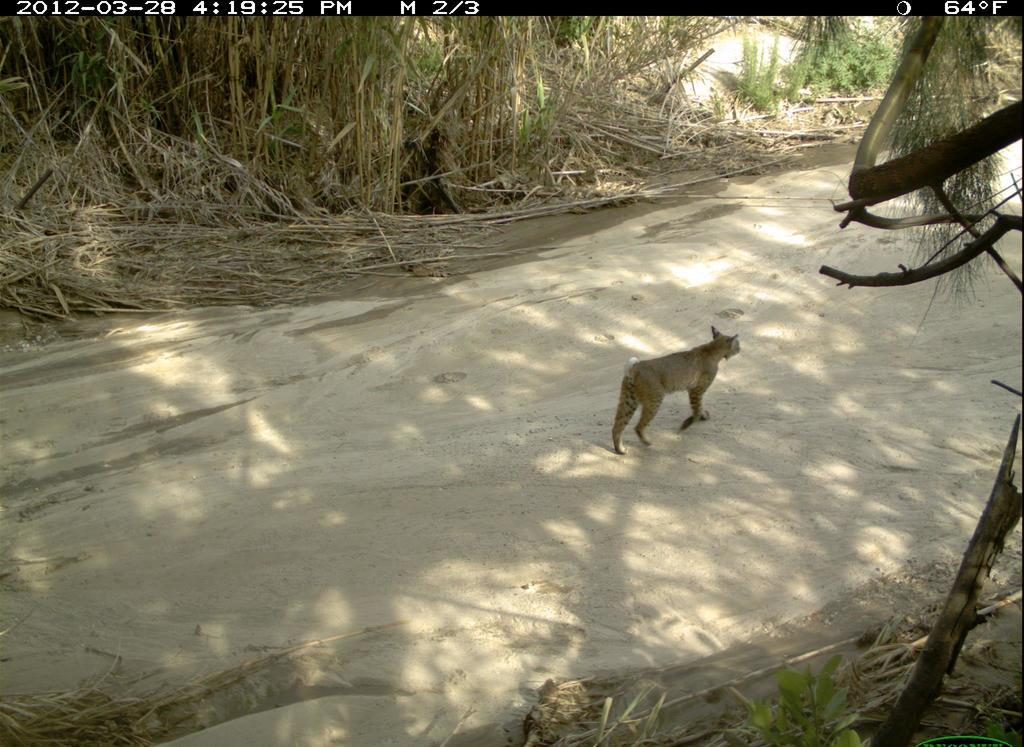bobcat: (602, 321, 747, 461)
